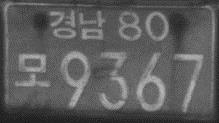0: (144, 10, 168, 42)
3: (96, 49, 128, 110)
6: (135, 50, 167, 112)
7: (172, 52, 204, 114)
8: (118, 10, 142, 42)
9: (59, 50, 92, 110)
경남_O: (48, 9, 106, 41)
모: (14, 50, 52, 88)
